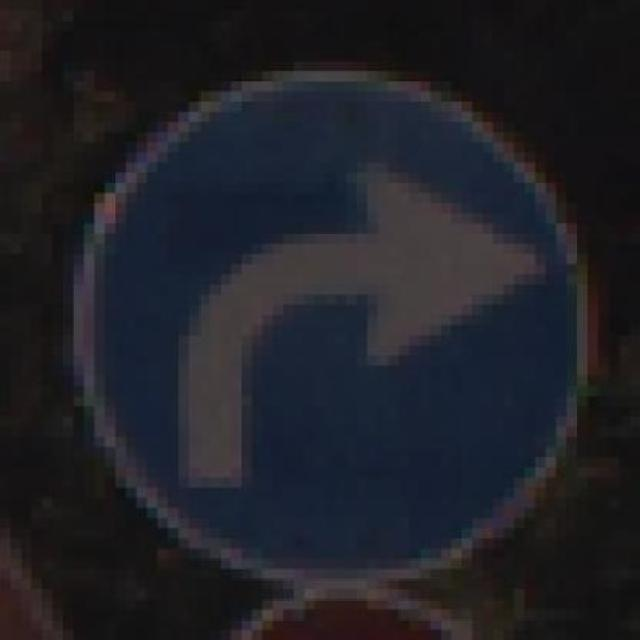Turn right ahead: (62, 61, 620, 579)
